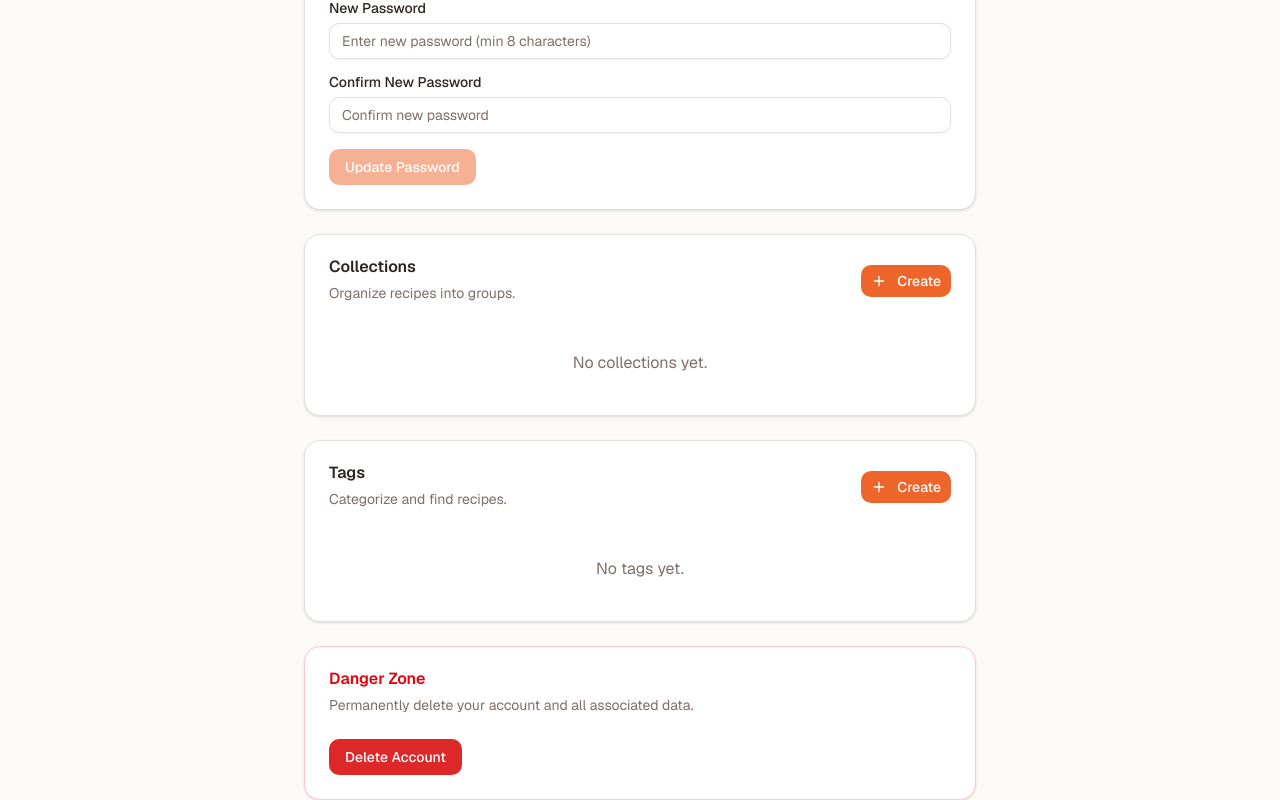
Test: SettingsPage › Profile Tab › opens delete account dialog
The image size is (1280, 800).
(page scrolled)
Step 1. Click the button "Delete Account" → x=396, y=757, box [329, 739, 462, 775]
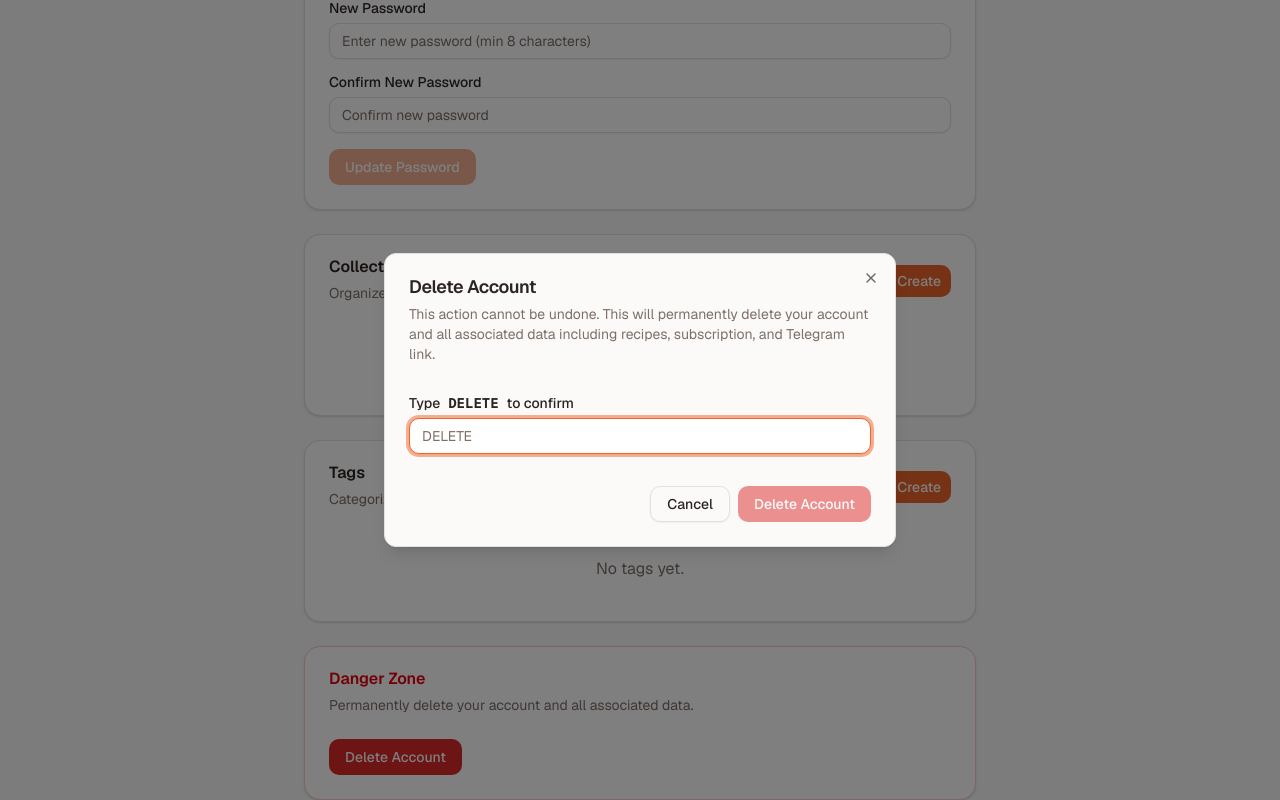
Expected: the text "This action cannot be undone" is shown, [409, 305, 868, 363]
